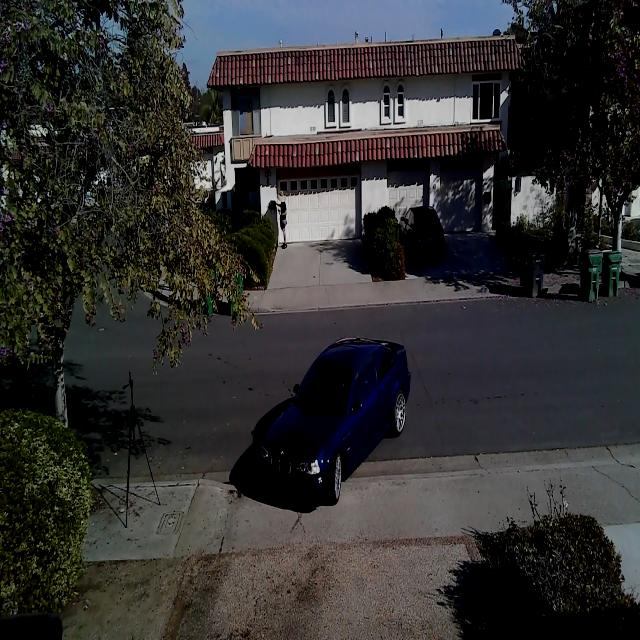Carbeetle: (249, 326, 414, 522)
Civilian: (399, 205, 445, 263)
